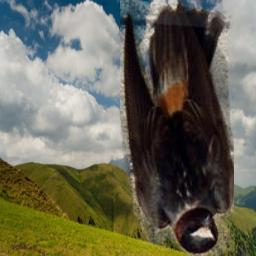Swallow: (120, 0, 234, 256)
